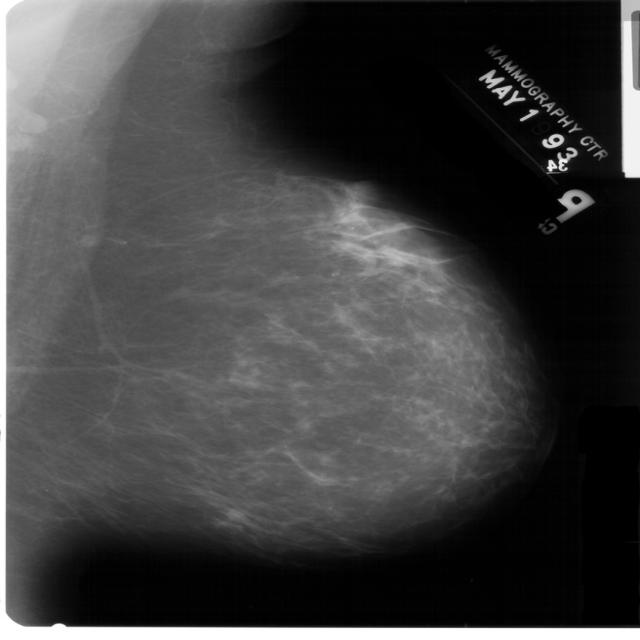tumour: (342, 177, 378, 204)
